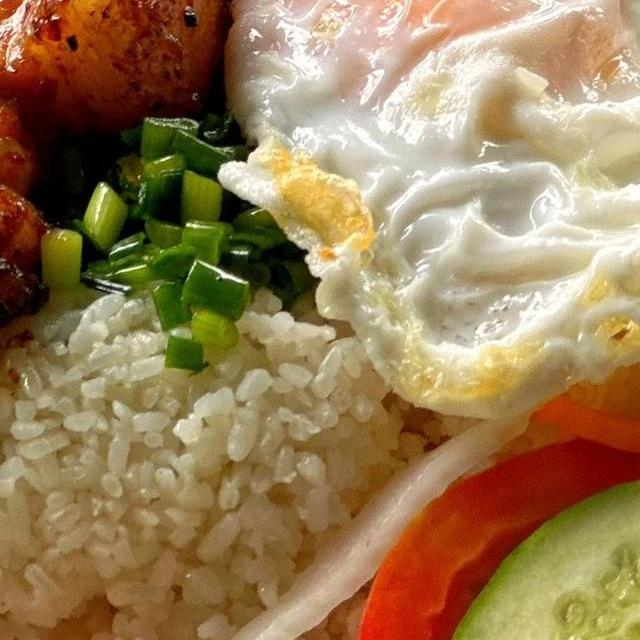com: (0, 121, 416, 640)
com suon trung: (0, 0, 640, 640)
dua chua: (525, 383, 640, 490)
suon: (0, 0, 328, 622)
trung: (206, 0, 640, 434)
